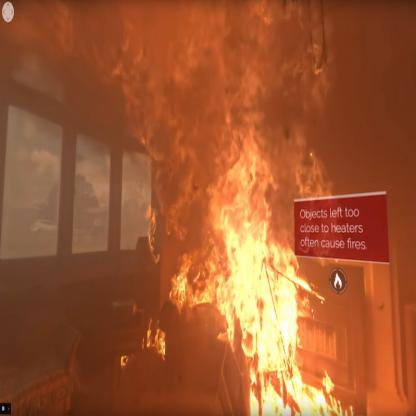fire: (179, 136, 356, 416)
smoke: (0, 0, 338, 235)
